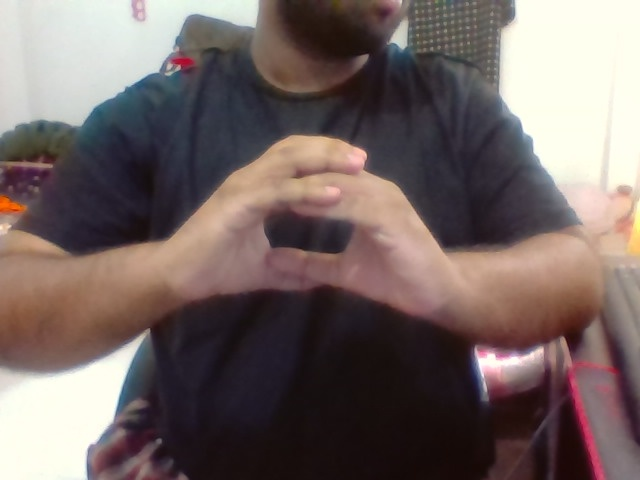O: (202, 118, 427, 333)
